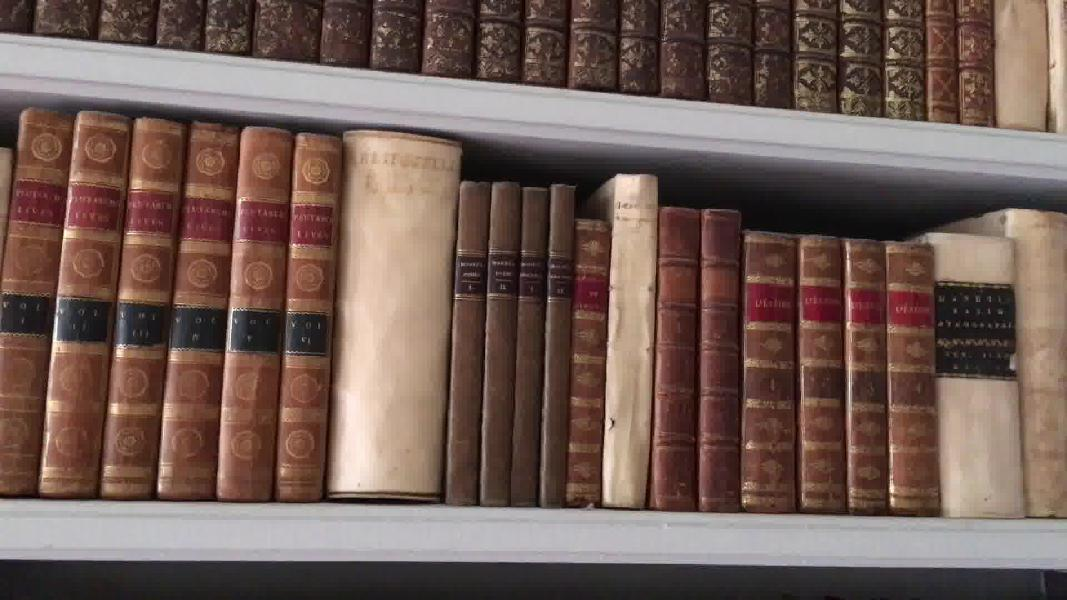Kk4-14: (333, 126, 463, 498)
Kk4-15_16: (445, 175, 517, 511)
Kk4-17_18: (511, 181, 581, 511)
Kk4-19: (567, 212, 610, 507)
Kk4-20: (605, 174, 660, 511)
Kk4-21_22: (656, 202, 746, 509)
Kk4-23_26: (741, 223, 941, 518)
Kk4-27: (925, 227, 1032, 523)
Kk4-28: (1002, 208, 1065, 523)
Kk4-8_13: (2, 107, 343, 508)
